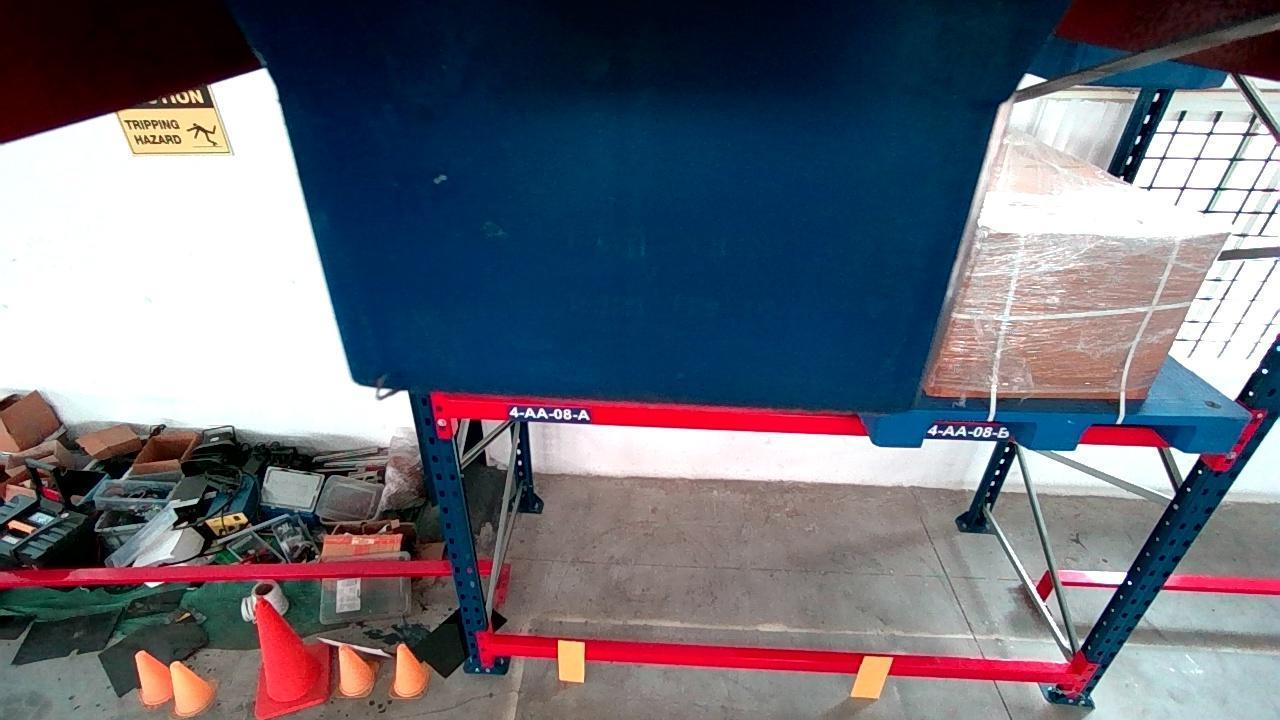h_rack: (490, 636, 1077, 682), (444, 396, 869, 434)
orange_strip: (855, 655, 891, 698), (559, 642, 583, 683)
small_pallet: (871, 412, 1249, 455)
